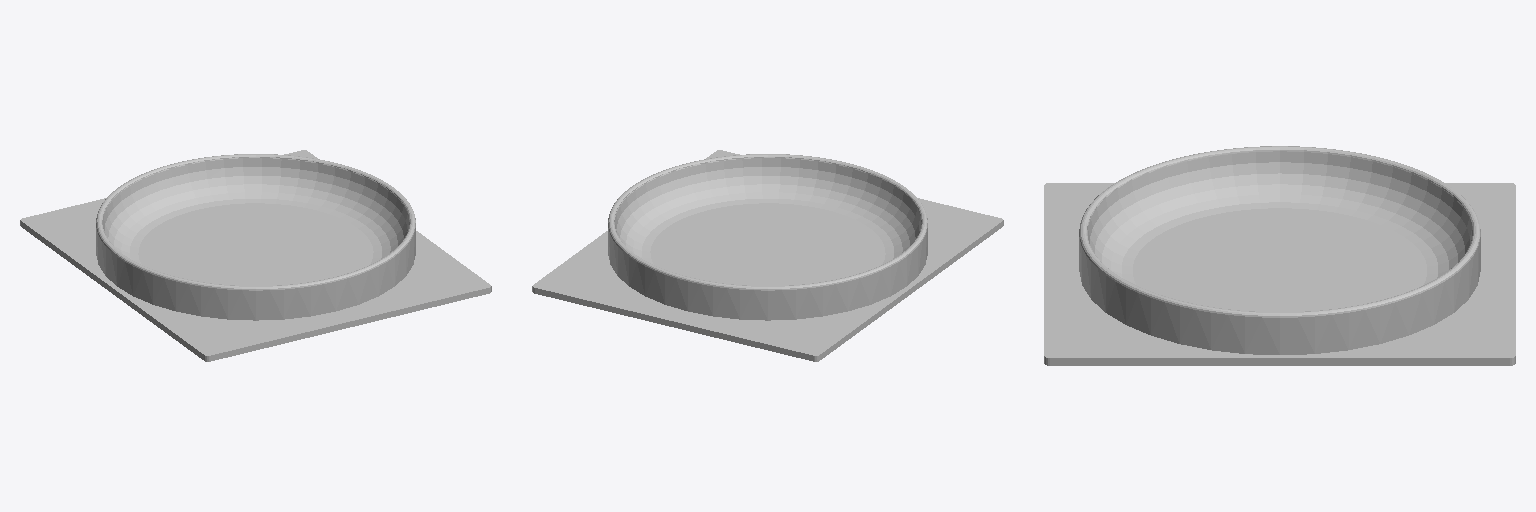
robot.urdf — stage:
<?xml version="1.0" ?>
<!-- =================================================================================== -->
<!-- |    This document was autogenerated by xacro from robot_properties_fingers/xacro/stage.urdf.xacro | -->
<!-- |    EDITING THIS FILE BY HAND IS NOT RECOMMENDED                                 | -->
<!-- =================================================================================== -->
<robot name="stage">
  <material name="stage_material">
    <color rgba="0.8 0.8 0.8 1.0"/>
  </material>
  <!-- add the "stage" -->
  <link name="stage_link">
    <visual>
      <origin rpy="0 0 0" xyz="0 0 0"/>
      <geometry>
        <mesh filename="package://robot_properties_fingers/meshes/Stage_simplified.obj" scale="1 1 1"/>
      </geometry>
      <material name="stage_material"/>
    </visual>
    <collision>
      <origin rpy="0 0 0" xyz="0 0 0"/>
      <geometry>
        <mesh filename="package://robot_properties_fingers/meshes/Stage_simplified.obj" scale="1 1 1"/>
      </geometry>
    </collision>
    <inertial>
      <origin rpy="0 0 0" xyz="0 0 0"/>
      <mass value="1"/>
      <inertia ixx="0.007708333333333333" ixy="0" ixz="0" iyy="0.007708333333333333" iyz="0" izz="0.015"/>
    </inertial>
  </link>
</robot>

--- Facts derived from the render (not from the file) ---
The picture shows the robot from 3 angles, left to right: view 1: azimuth 30°, elevation 25°; view 2: azimuth 150°, elevation 25°; view 3: azimuth 270°, elevation 25°; orthographic projection.
Model stage with 1 links and 0 joints (none), rooted at stage_link, posed all joints at 0.
Visible links, largest first — view 1: stage_link; view 2: stage_link; view 3: stage_link.
Boxes of the visible links, x1,y1,x2,y2 form: stage_link: (20,150,491,361); stage_link: (532,150,1003,361); stage_link: (1044,146,1515,365).
Bounding box of the posed robot: 0.6 × 0.68 × 0.077 m (x, y, z).
Meshes: 1 distinct files referenced, 1 mesh visuals loaded (1 OBJ).
